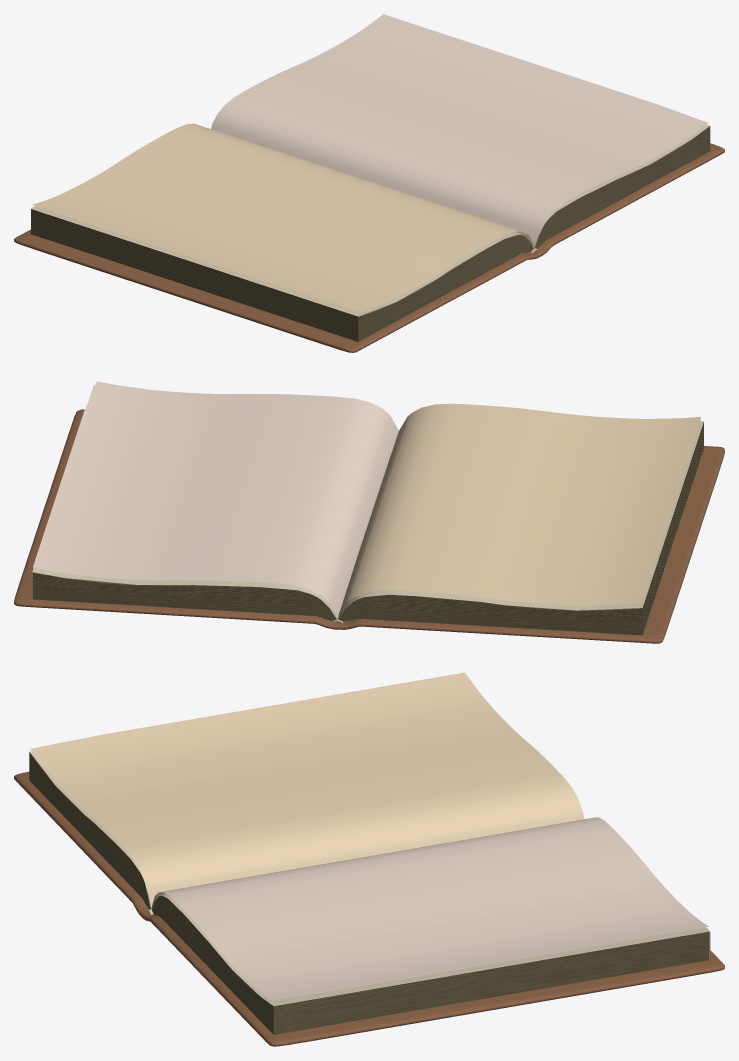
3 renders of one model, top to bottom at view 1: azimuth 30°, elevation 25°; view 2: azimuth 150°, elevation 25°; view 3: azimuth 270°, elevation 25°, orthographic. The views are drawn at different scales.
Visible parts, largest first — view 1: page_top_right_2; view 2: page_top_right_2; view 3: page_top_right_2.
Part boxes in pixels (left/top/right/bottom): page_top_right_2: left=14, top=14, right=724, bottom=352; page_top_right_2: left=14, top=381, right=724, bottom=643; page_top_right_2: left=14, top=672, right=724, bottom=1046.
Bounding box in the file's own units: 6499 × 382 × 5632.
7 materials, 3 textured.
